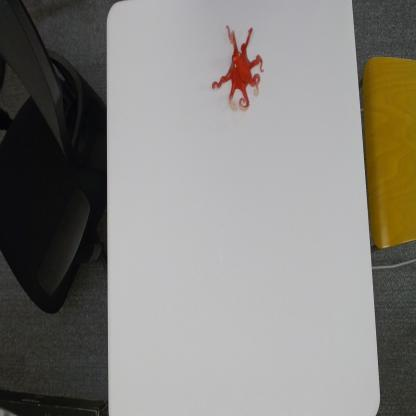Octopus: (211, 22, 265, 113)
